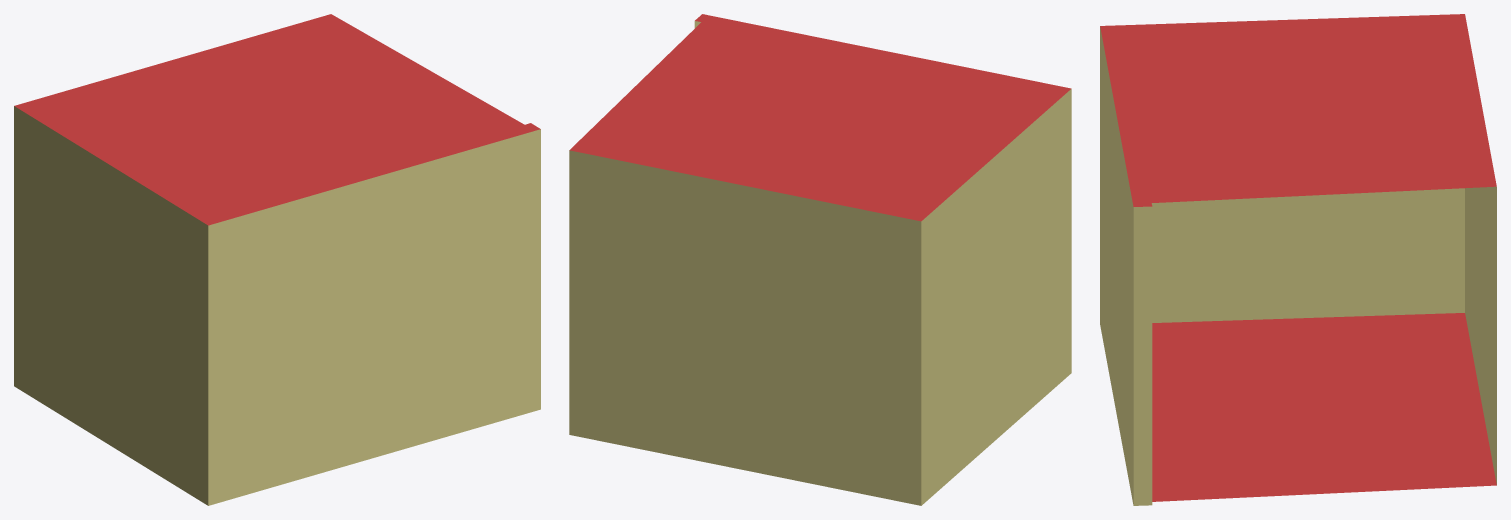
The picture shows the model from 3 angles, left to right: view 1: azimuth 30°, elevation 25°; view 2: azimuth 150°, elevation 25°; view 3: azimuth 270°, elevation 25°; orthographic projection. The views are drawn at different scales.
Bounding box in the file's own units: 7.21 × 6.26 × 5.2.
